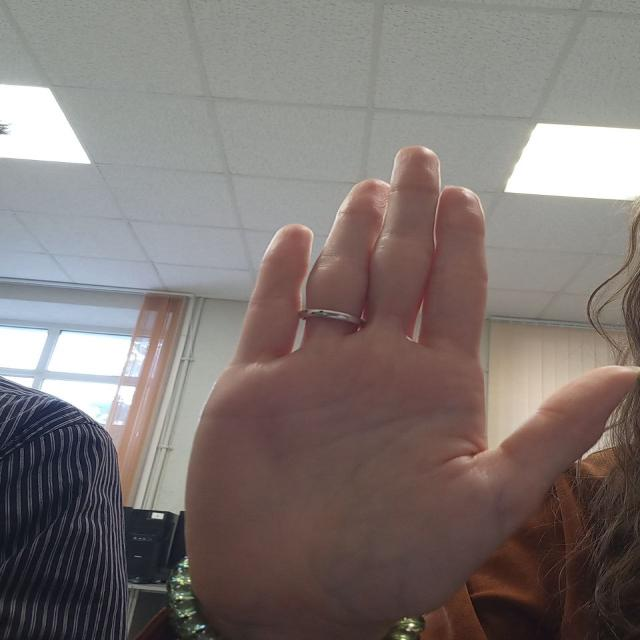v: (211, 142, 636, 620)
